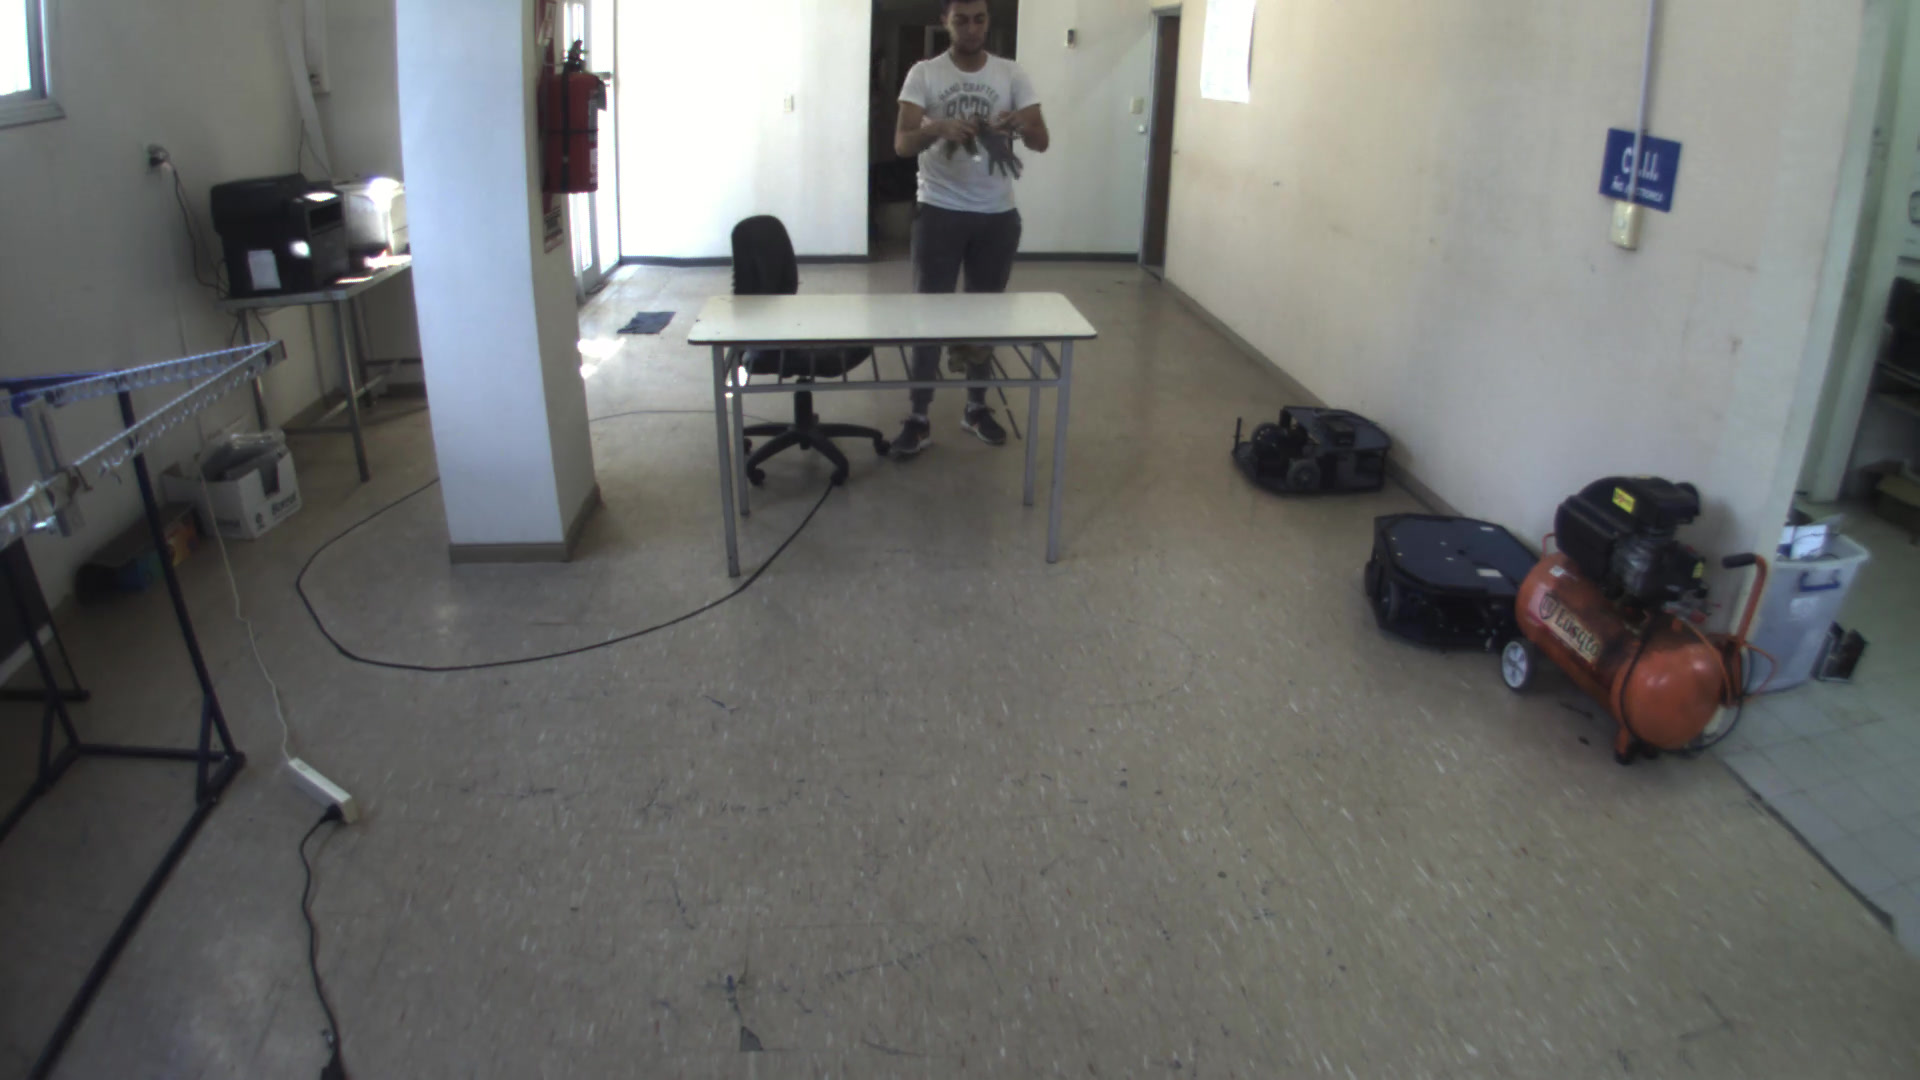hand: (990, 92, 1046, 146), (928, 105, 978, 156)
